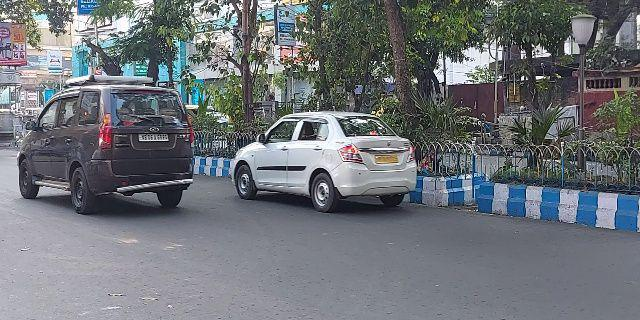Car: (16, 71, 195, 215), (230, 107, 420, 212)
